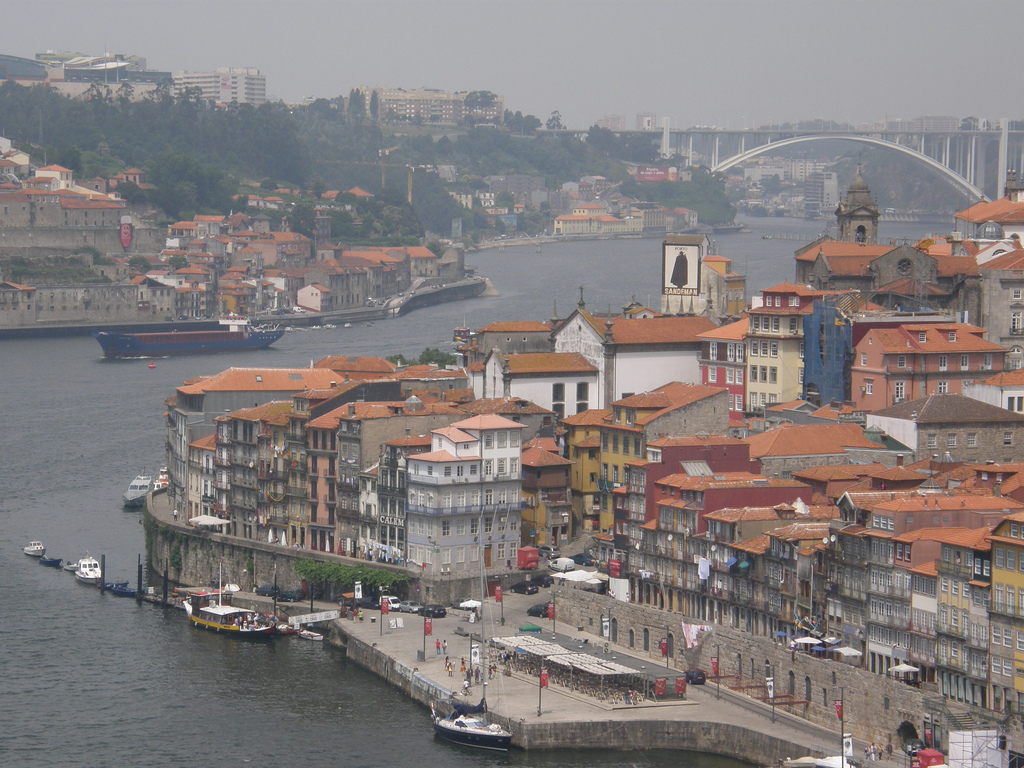arrabida: (614, 115, 1023, 204)
